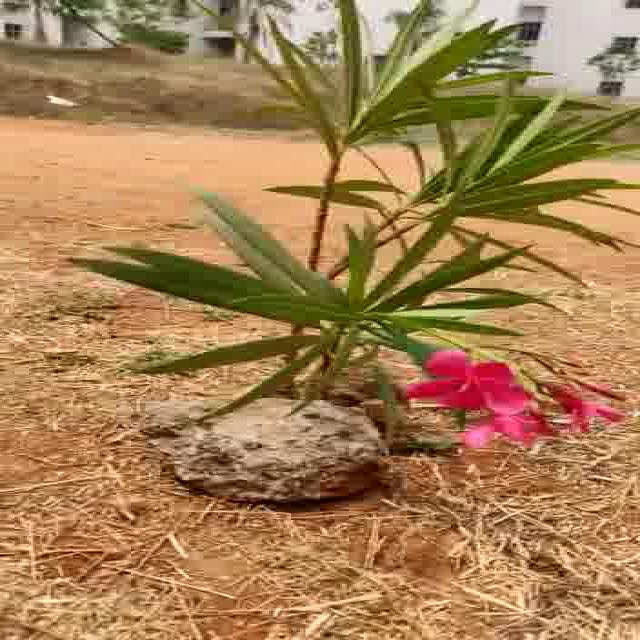Oleander: (100, 19, 639, 433)
